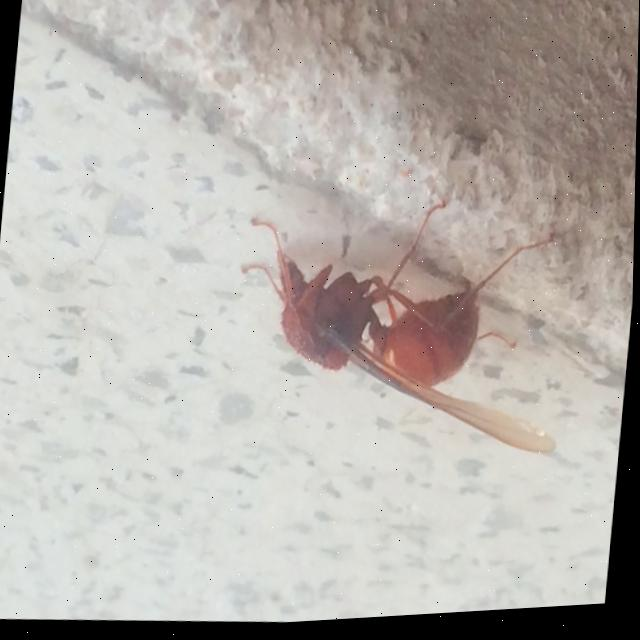Alive-Male-Alate: (227, 187, 580, 476)
